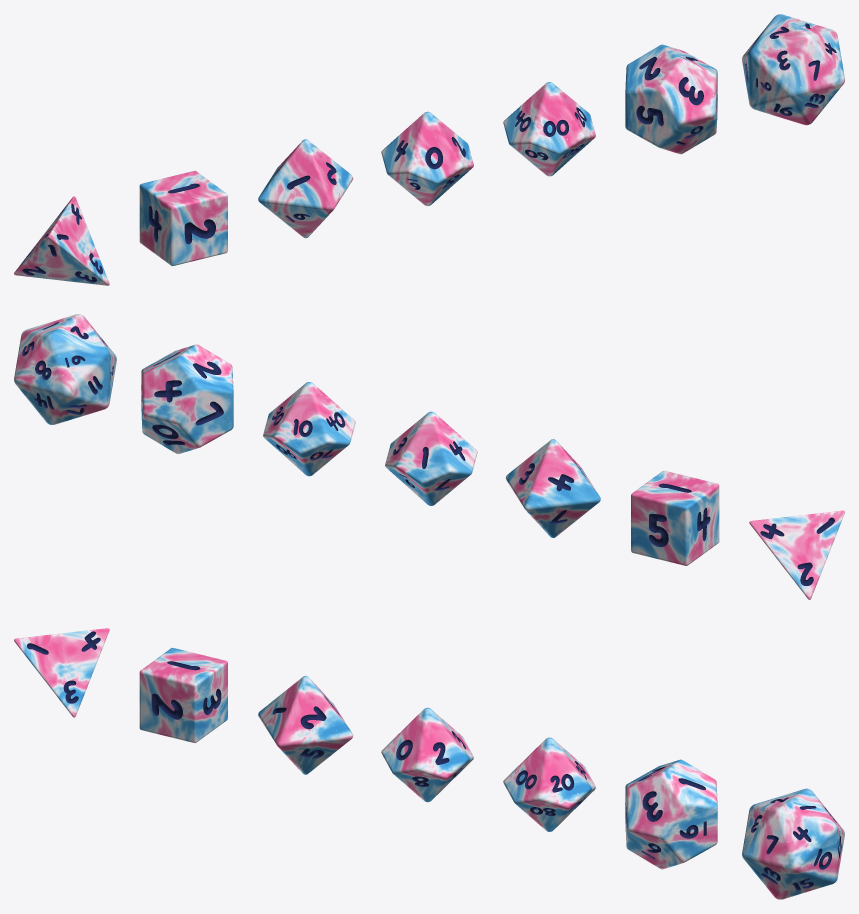
Rendered from bubblegum.glb.
3 views of the same model, one above another, from view 1: azimuth 30°, elevation 25°; view 2: azimuth 150°, elevation 25°; view 3: azimuth 330°, elevation 25° (orthographic).
Parts seen in each view (by area): view 1: d20, d12, d6, d100, d10, d8, d4; view 2: d20, d12, d6, d100, d10, d8, d4; view 3: d20, d12, d6, d8, d10, d100, d4.
Boxes of the visible parts, x1=… form: d20: x1=742, y1=14, x2=844, y2=125; d12: x1=625, y1=44, x2=717, y2=154; d6: x1=139, y1=171, x2=227, y2=266; d100: x1=503, y1=82, x2=595, y2=176; d10: x1=381, y1=111, x2=473, y2=206; d8: x1=258, y1=139, x2=353, y2=238; d4: x1=14, y1=196, x2=109, y2=285; d20: x1=14, y1=314, x2=116, y2=424; d12: x1=141, y1=344, x2=233, y2=453; d6: x1=631, y1=470, x2=719, y2=565; d100: x1=263, y1=382, x2=355, y2=476; d10: x1=385, y1=411, x2=477, y2=505; d8: x1=505, y1=439, x2=600, y2=537; d4: x1=749, y1=510, x2=844, y2=599; d20: x1=742, y1=788, x2=844, y2=899; d12: x1=625, y1=759, x2=717, y2=869; d6: x1=139, y1=647, x2=227, y2=742; d8: x1=258, y1=675, x2=353, y2=774; d10: x1=381, y1=707, x2=473, y2=802; d100: x1=503, y1=737, x2=595, y2=831; d4: x1=14, y1=628, x2=109, y2=717.
Bounding box in the file's own units: 21.14 × 2.47 × 2.47.
14 materials, 7 textured.
